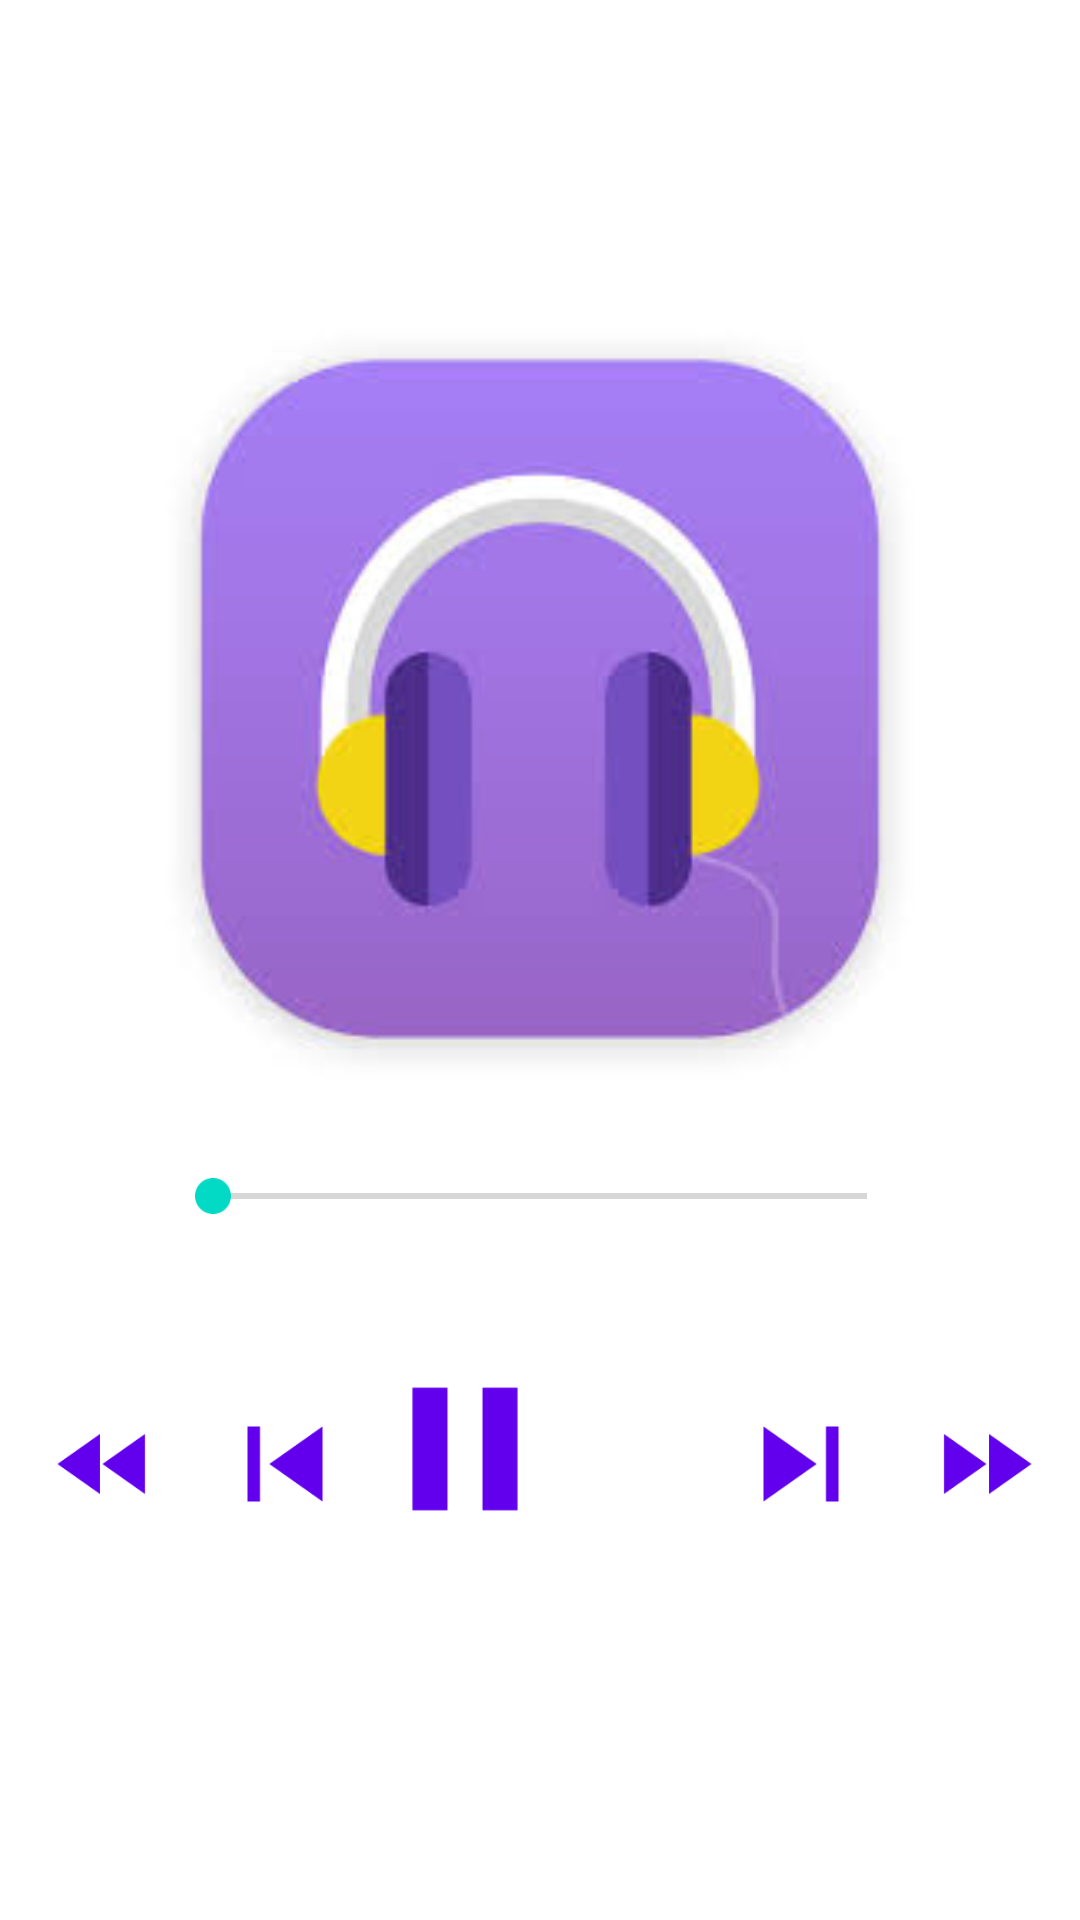

Icon click points for this 1080×1920 phone screenshot, format [x,y]:
fast forward: [988,1464]
fast rewind: [101,1464]
pause: [465,1449]
skip next: [801,1464]
skip previous: [285,1464]
